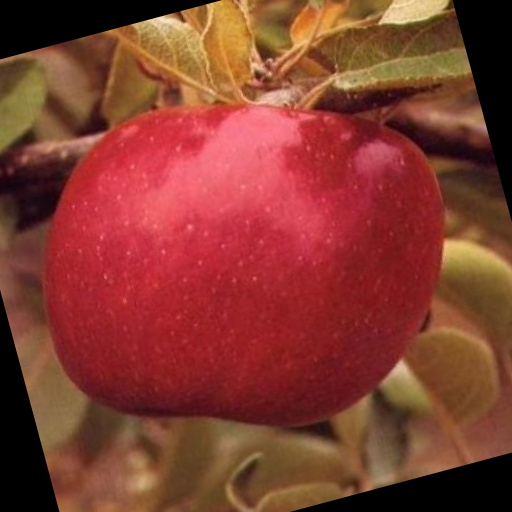fruit: (345, 74, 512, 443)
